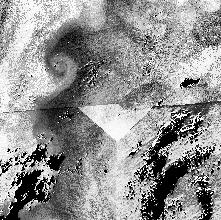CE: (50, 54, 77, 81)
